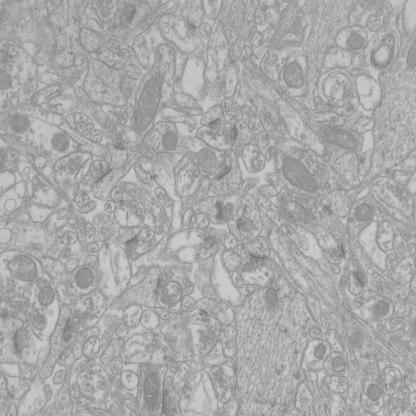mitochondria: (132, 78, 164, 135), (282, 154, 318, 196), (6, 254, 38, 283), (325, 126, 358, 152), (143, 371, 161, 409), (283, 61, 305, 89), (161, 279, 183, 306), (7, 112, 30, 133), (74, 266, 94, 289), (37, 286, 56, 307), (354, 202, 373, 223), (50, 132, 69, 152), (160, 131, 179, 151), (372, 299, 390, 319), (345, 33, 365, 50), (331, 356, 347, 374), (266, 286, 279, 308), (368, 382, 381, 402), (314, 343, 326, 358)
